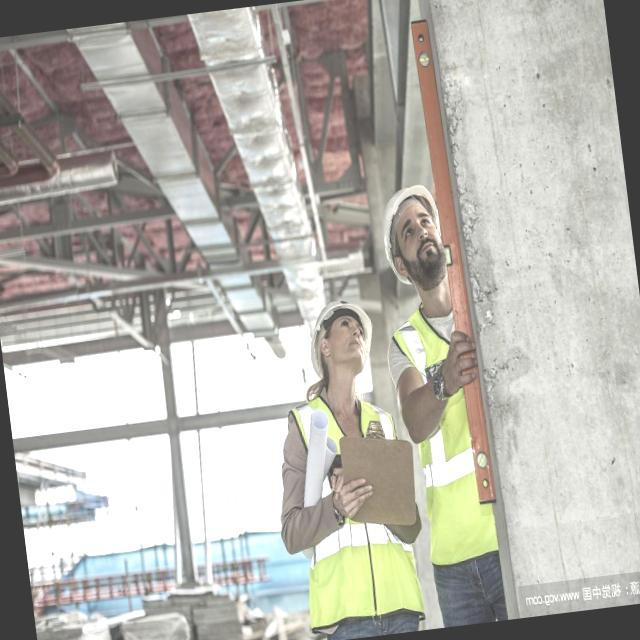vest: (288, 384, 412, 630), (395, 303, 484, 564)
